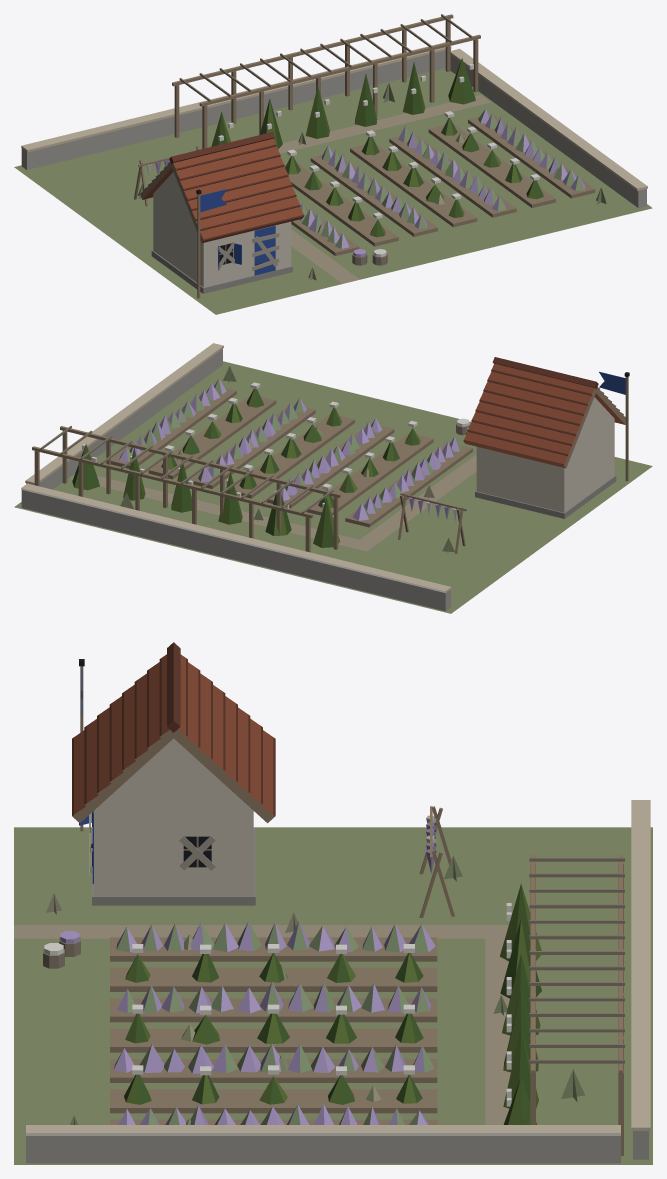
Rendered from duftgarten.glb.
3 views of the same model, one above another, from view 1: azimuth 30°, elevation 25°; view 2: azimuth 150°, elevation 25°; view 3: azimuth 270°, elevation 25° (orthographic). The views are drawn at different scales.
Parts seen in each view (by area): view 1: Haus, Arbeit, Leerstand, Fahne; view 2: Haus, Arbeit, Fahne, Leerstand; view 3: Haus, Arbeit, Leerstand.
Part boxes in pixels (x1,y1,x2,y2): Haus: (14, 14, 652, 314); Arbeit: (134, 58, 585, 265); Leerstand: (137, 83, 606, 280); Fahne: (196, 189, 226, 298); Haus: (14, 343, 652, 613); Arbeit: (72, 378, 470, 553); Fahne: (599, 371, 629, 481); Leerstand: (120, 366, 454, 553); Haus: (14, 642, 652, 1164); Arbeit: (43, 806, 541, 1124); Leerstand: (46, 814, 585, 1124).
Bounding box in the file's own units: 20 × 5.26 × 16.
